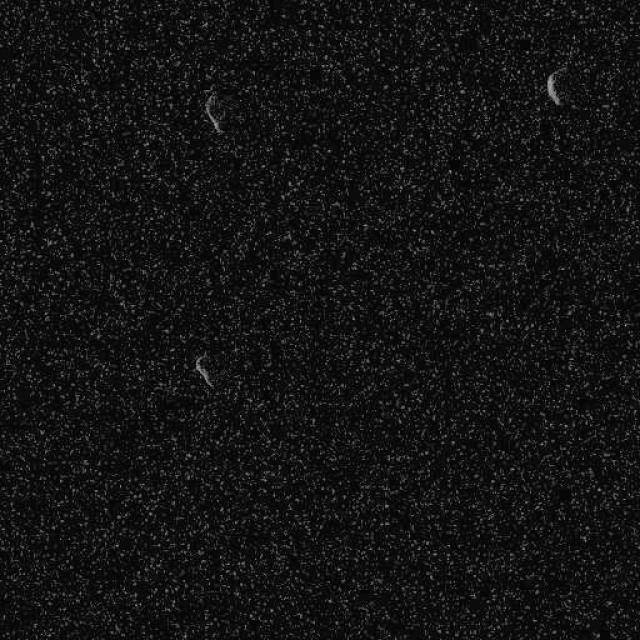D2: (202, 90, 226, 134), (545, 65, 567, 106), (192, 353, 214, 388)
